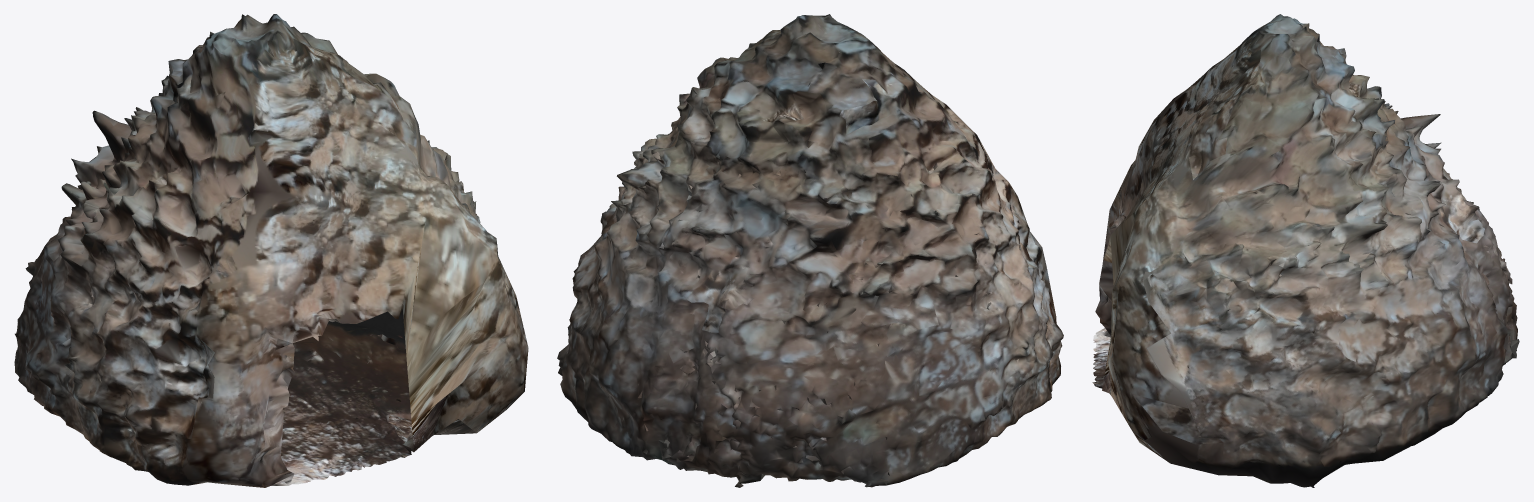
The model's file is Tafos200_Inside.fbx.
The picture shows the model from 3 angles, left to right: view 1: azimuth 30°, elevation 25°; view 2: azimuth 150°, elevation 25°; view 3: azimuth 270°, elevation 25°; orthographic projection. The views are drawn at different scales.
Visible parts, largest first — view 1: Tafos200-video134405; view 2: Tafos200-video134405; view 3: Tafos200-video134405.
Boxes of the visible parts, left/top/right/bottom form: Tafos200-video134405: left=14, top=14, right=528, bottom=487; Tafos200-video134405: left=557, top=14, right=1063, bottom=487; Tafos200-video134405: left=1092, top=14, right=1519, bottom=487.
Bounding box in the file's own units: 311 × 291 × 282.
